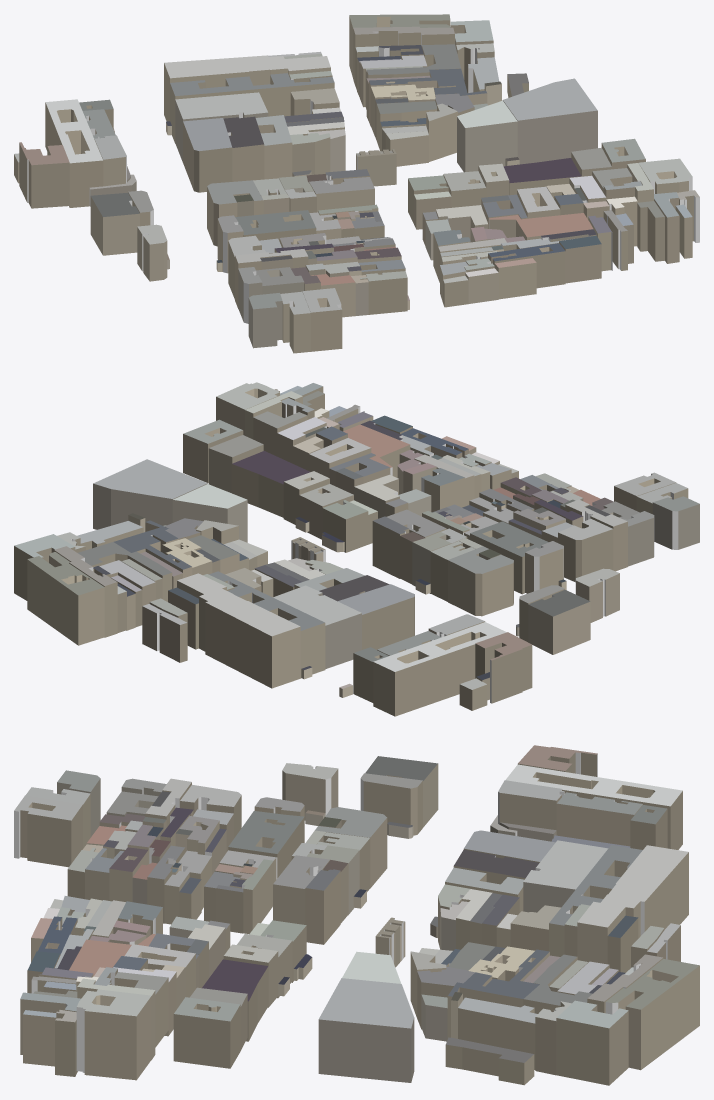
3 renders of one model, top to bottom at view 1: azimuth 30°, elevation 25°; view 2: azimuth 150°, elevation 25°; view 3: azimuth 270°, elevation 25°, orthographic. The views are drawn at different scales.
Parts seen in each view (by area): view 1: tuile; view 2: tuile; view 3: tuile.
Boxes of the visible parts, bbox=[...] form: tuile: bbox=[14, 14, 699, 353]; tuile: bbox=[14, 382, 699, 716]; tuile: bbox=[14, 745, 699, 1085].
Bounding box in the file's own units: 273 × 30.78 × 274.
